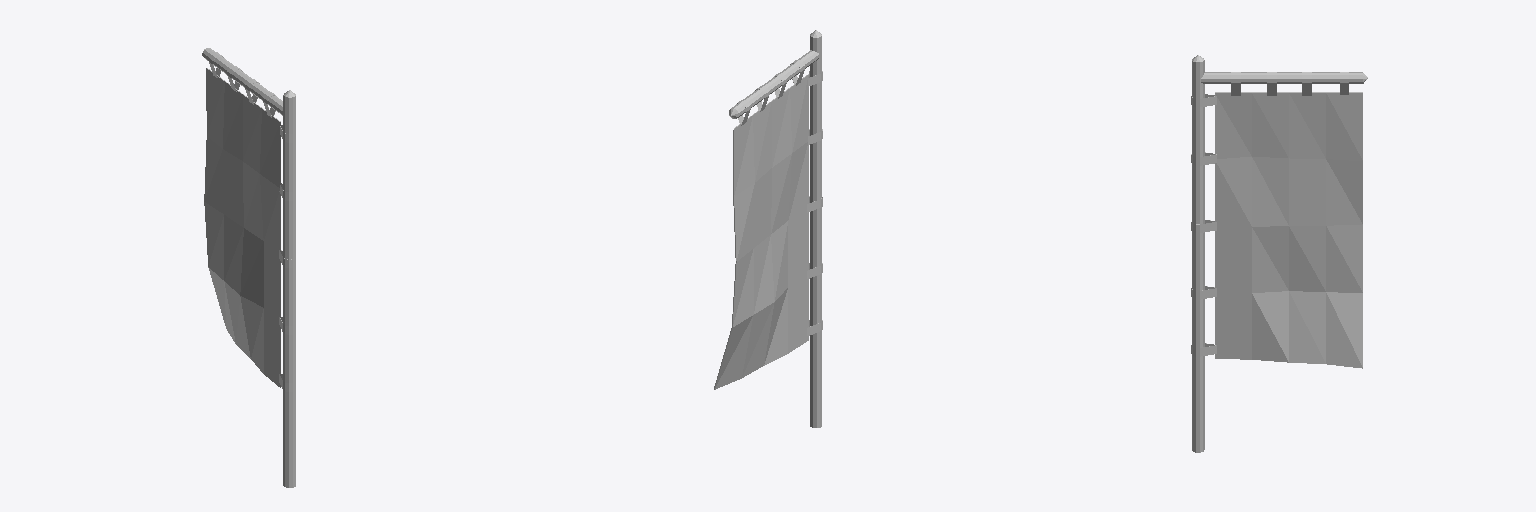
File: ninjabanner_basic.sgm.obj
The picture shows the model from 3 angles: view 1: azimuth 30°, elevation 25°; view 2: azimuth 150°, elevation 25°; view 3: azimuth 270°, elevation 25°; orthographic projection.
Size of the model in its own units: 0.0707 by 1.04 by 0.4221.